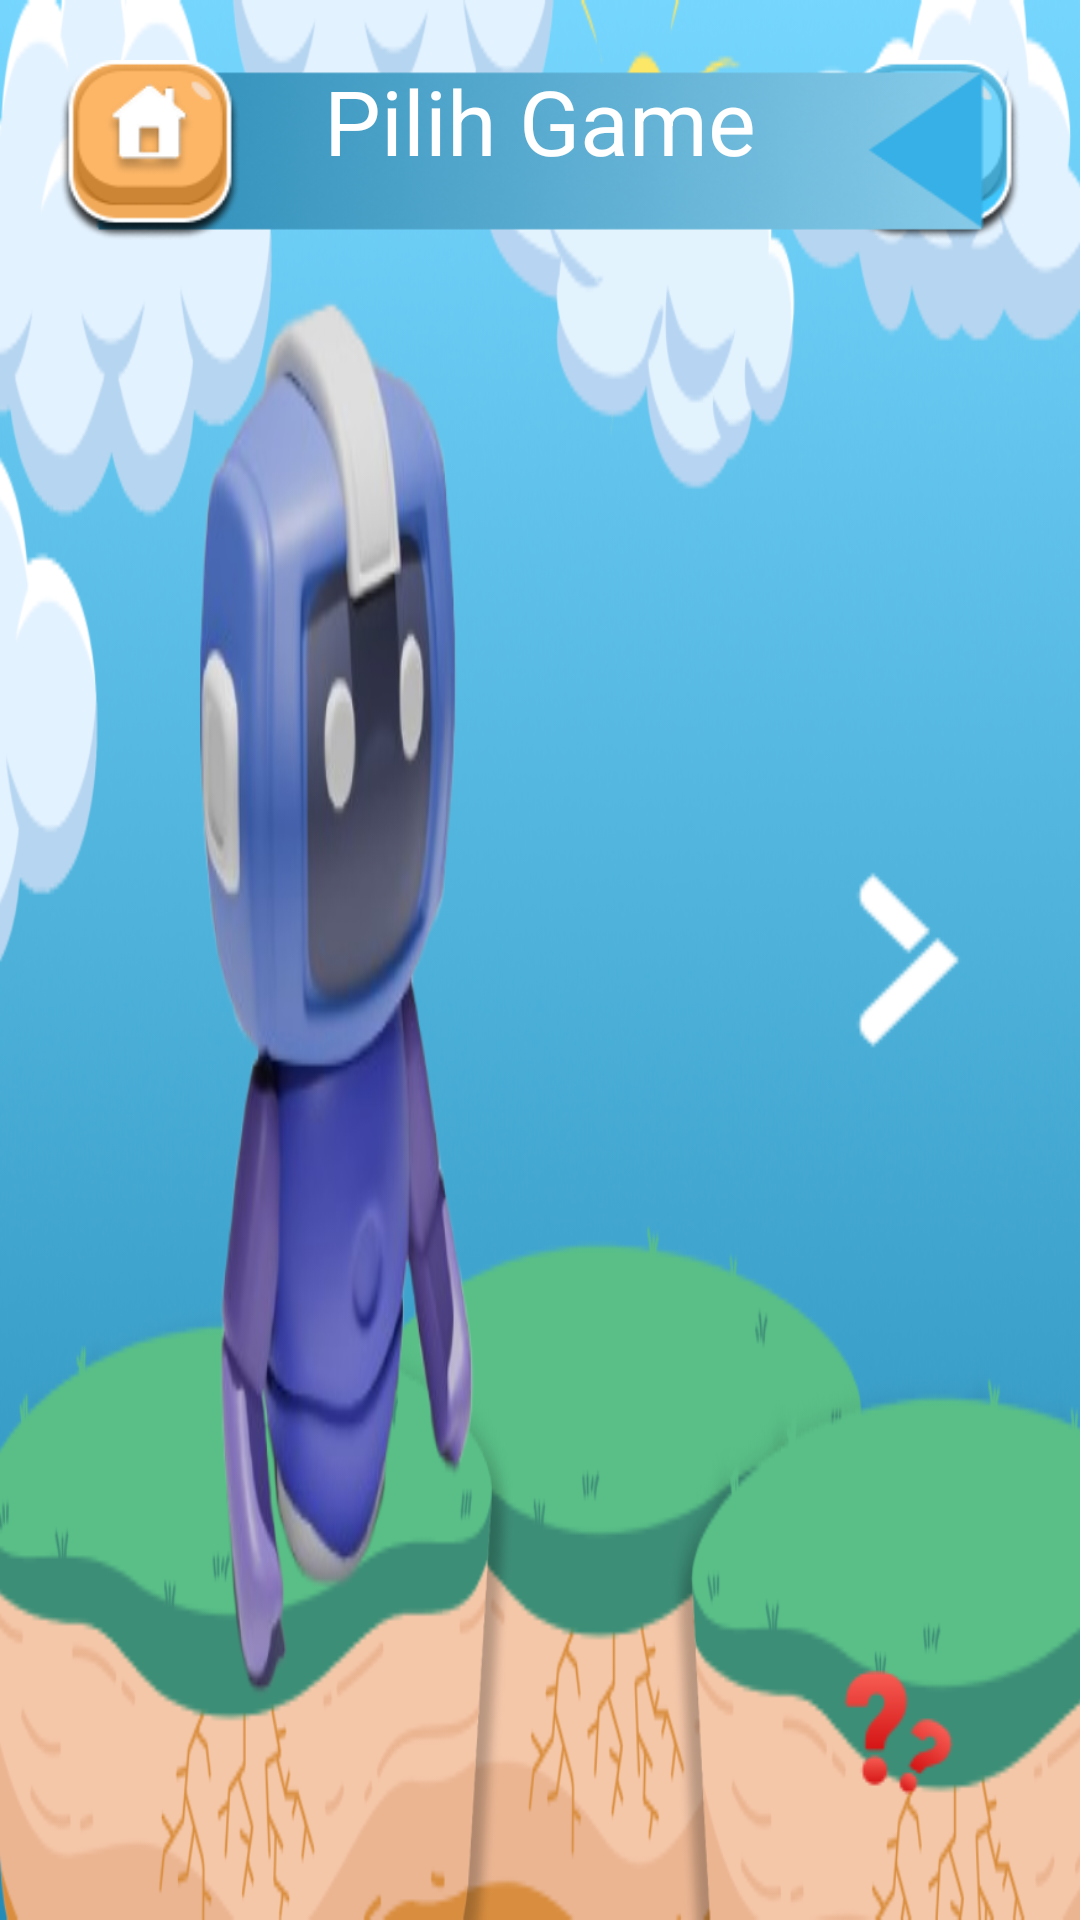

Screen size 1080px×1920px. Icon name, then its box in pixels as (x1, y1, x2, y2):
btnhome: (60, 60, 240, 237)
